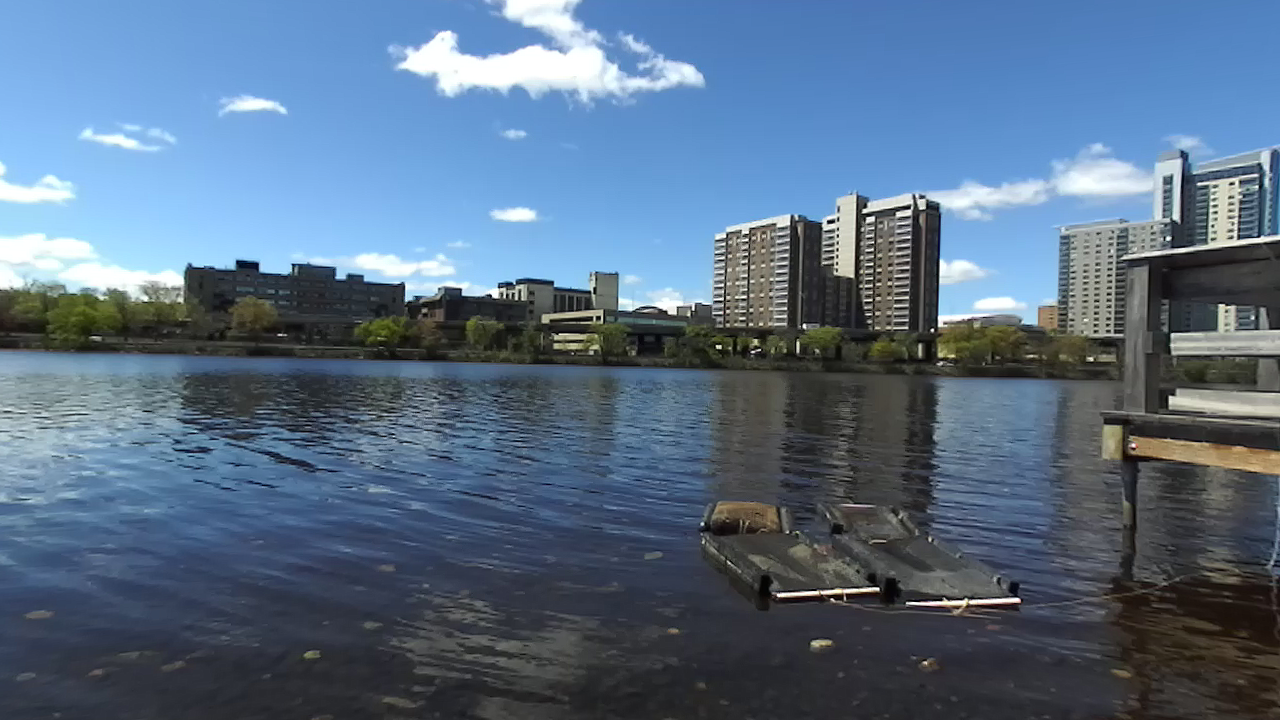bag: (833, 535, 1022, 606), (701, 533, 879, 603), (817, 502, 922, 538), (699, 499, 794, 536)
